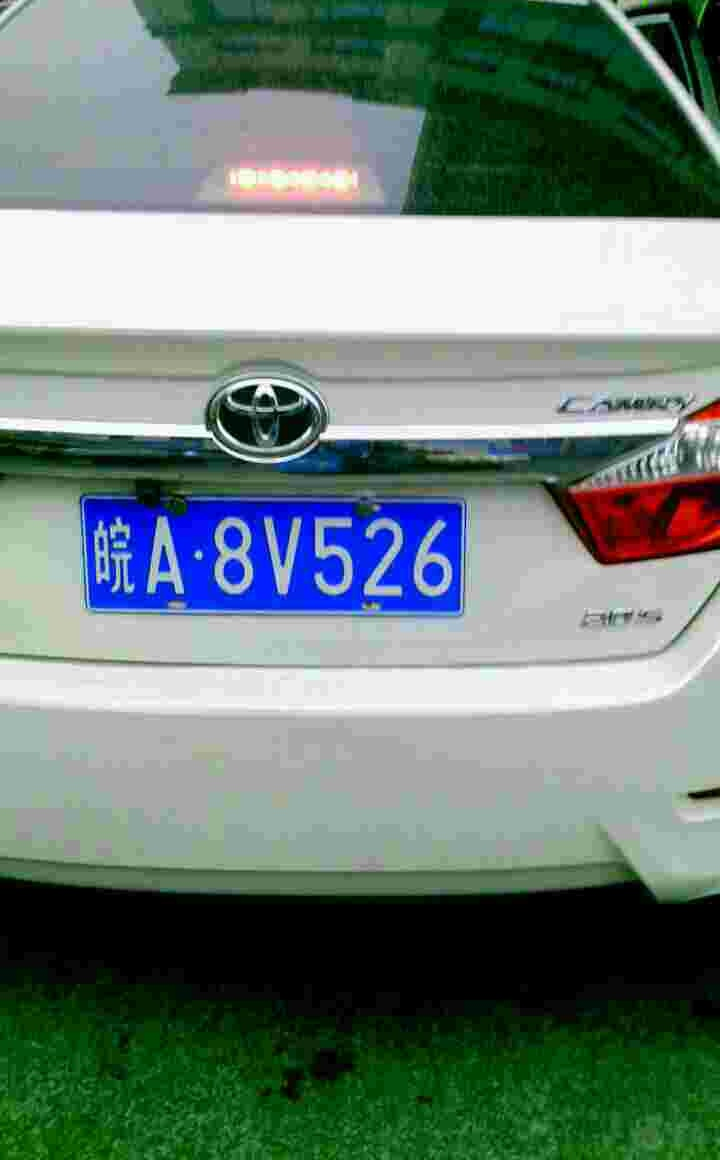license_plate: (92, 486, 481, 615)
